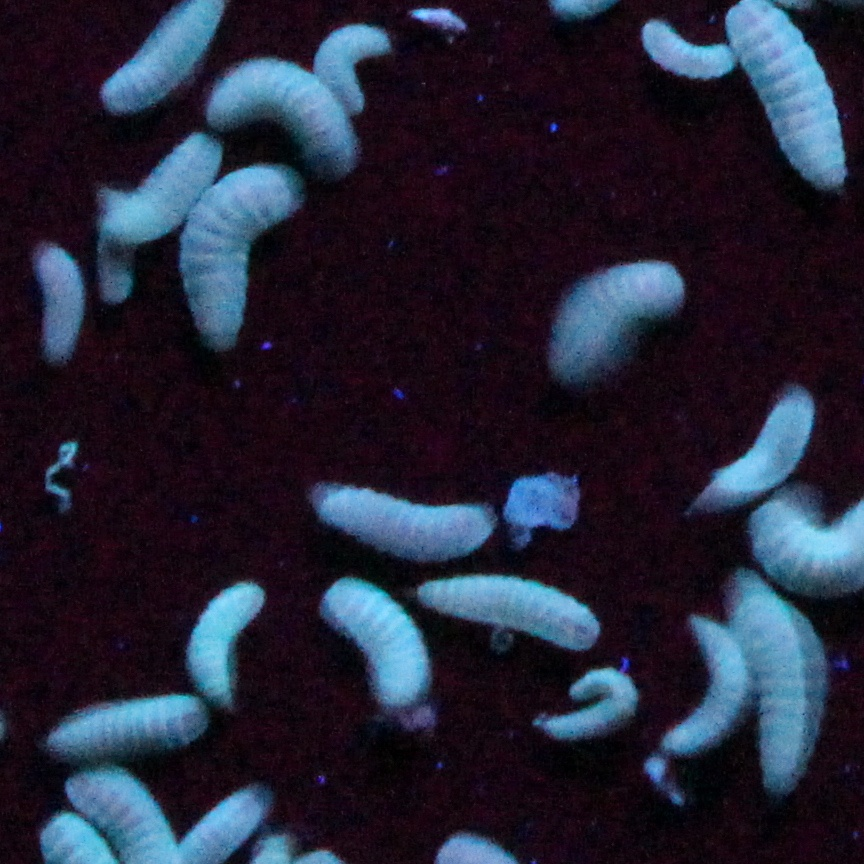larve: (743, 5, 861, 188), (183, 168, 292, 342), (541, 268, 692, 370), (312, 482, 481, 573), (675, 393, 806, 508), (738, 596, 817, 786), (315, 585, 426, 708), (215, 62, 355, 156), (655, 610, 738, 762), (423, 582, 592, 656), (43, 699, 195, 756), (183, 582, 258, 688), (538, 665, 641, 739), (643, 19, 738, 79), (318, 25, 381, 110), (41, 253, 81, 359)
